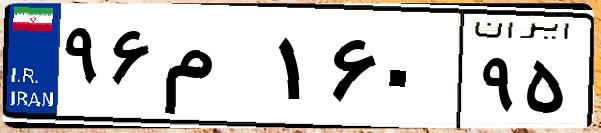0: (385, 28, 445, 110)
1: (270, 28, 330, 110)
5: (525, 38, 570, 115)
6: (330, 28, 385, 110), (110, 28, 158, 98)
9: (57, 26, 110, 100), (475, 38, 525, 113)
م: (158, 20, 270, 120)
